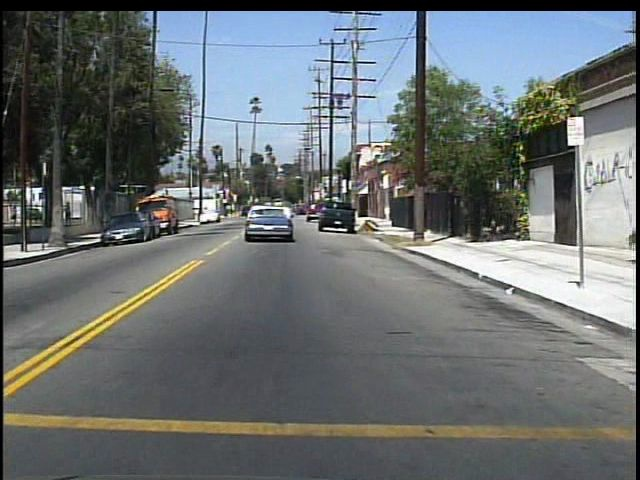person: (64, 199, 77, 225)
